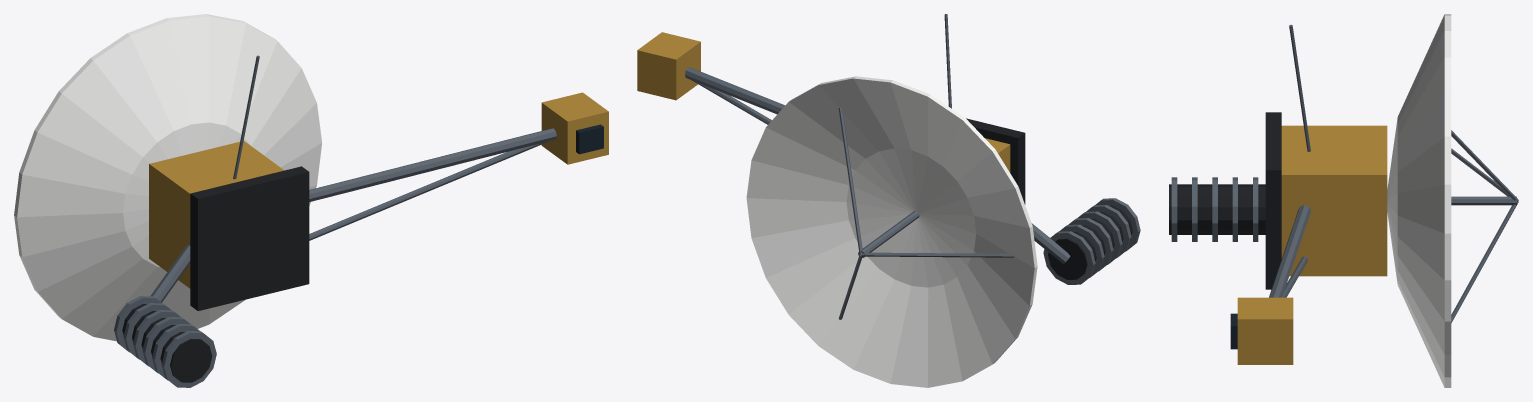
Rendered from probe.glb.
The picture shows the model from 3 angles, left to right: view 1: azimuth 30°, elevation 25°; view 2: azimuth 150°, elevation 25°; view 3: azimuth 270°, elevation 25°; orthographic projection. The views are drawn at different scales.
Parts seen in each view (by area): view 1: probe body; view 2: probe body; view 3: probe body.
Part boxes in pixels (x1=…): probe body: x1=14, y1=14, x2=608, y2=387; probe body: x1=637, y1=14, x2=1140, y2=387; probe body: x1=1169, y1=14, x2=1518, y2=387.
Bounding box in the file's own units: 6 × 3.85 × 3.45.
